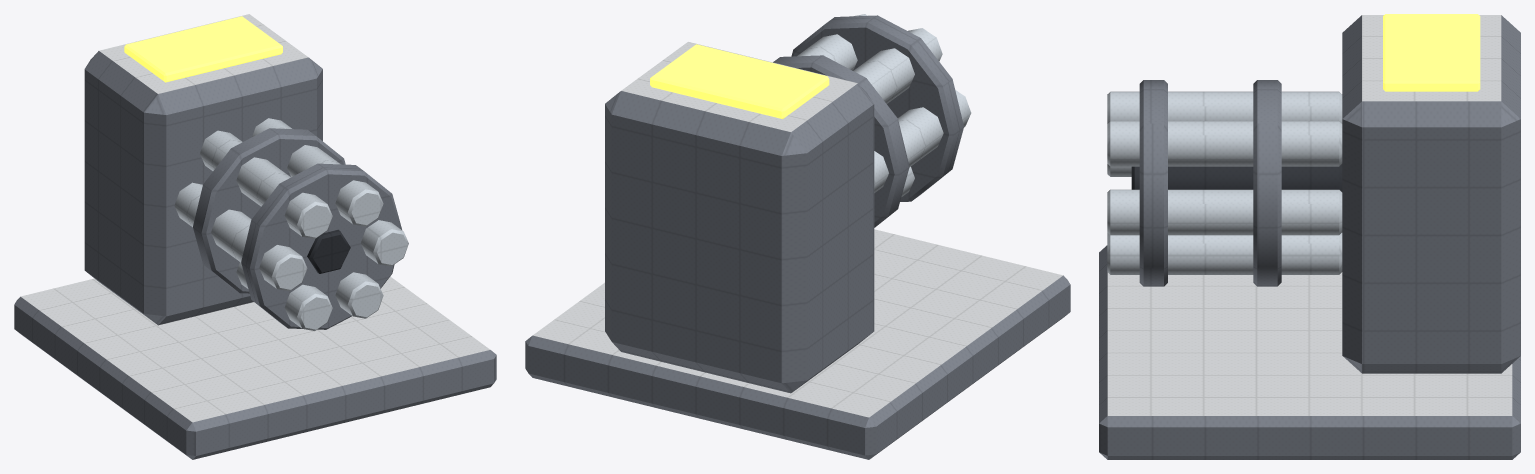
File: R4X_RapidFire_LOD1.glb
The picture shows the model from 3 angles, left to right: view 1: azimuth 30°, elevation 25°; view 2: azimuth 150°, elevation 25°; view 3: azimuth 270°, elevation 25°; orthographic projection. The views are drawn at different scales.
Parts seen in each view (by area): view 1: R4X_RapidFire_LOD1; view 2: R4X_RapidFire_LOD1; view 3: R4X_RapidFire_LOD1.
Part boxes in pixels (box(x1,y1,x2,y2)): R4X_RapidFire_LOD1: box(14, 14, 496, 459); R4X_RapidFire_LOD1: box(525, 14, 1070, 459); R4X_RapidFire_LOD1: box(1099, 14, 1520, 459).
Bounding box in the file's own units: 0.52 × 0.445 × 0.52.
Materials: 5 (4 with a texture image).
